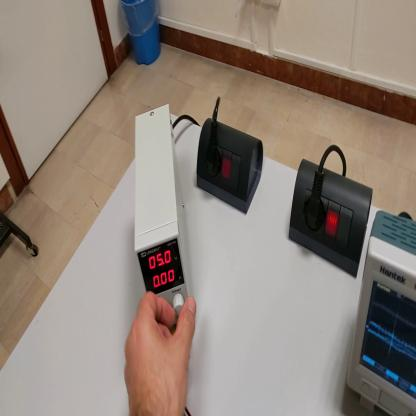hand: (124, 294, 197, 415)
oscilloscope: (348, 211, 416, 415)
power supply: (134, 104, 192, 319)
socket: (290, 156, 376, 286), (196, 116, 266, 216)
